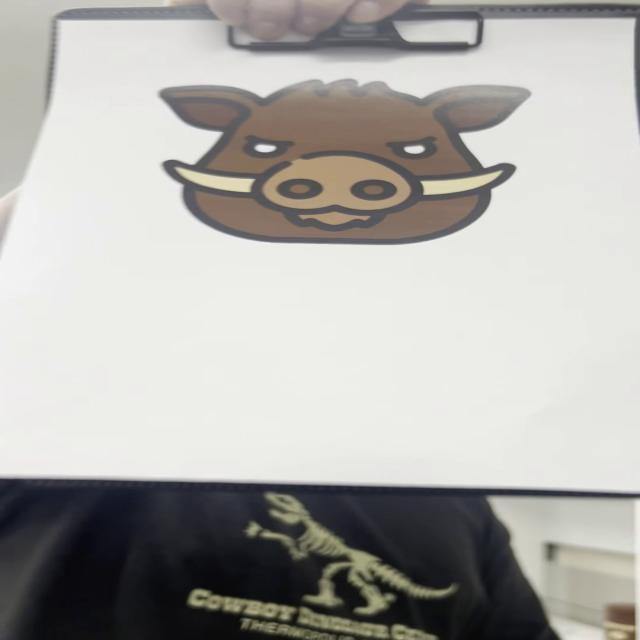animal: (152, 76, 534, 248)
